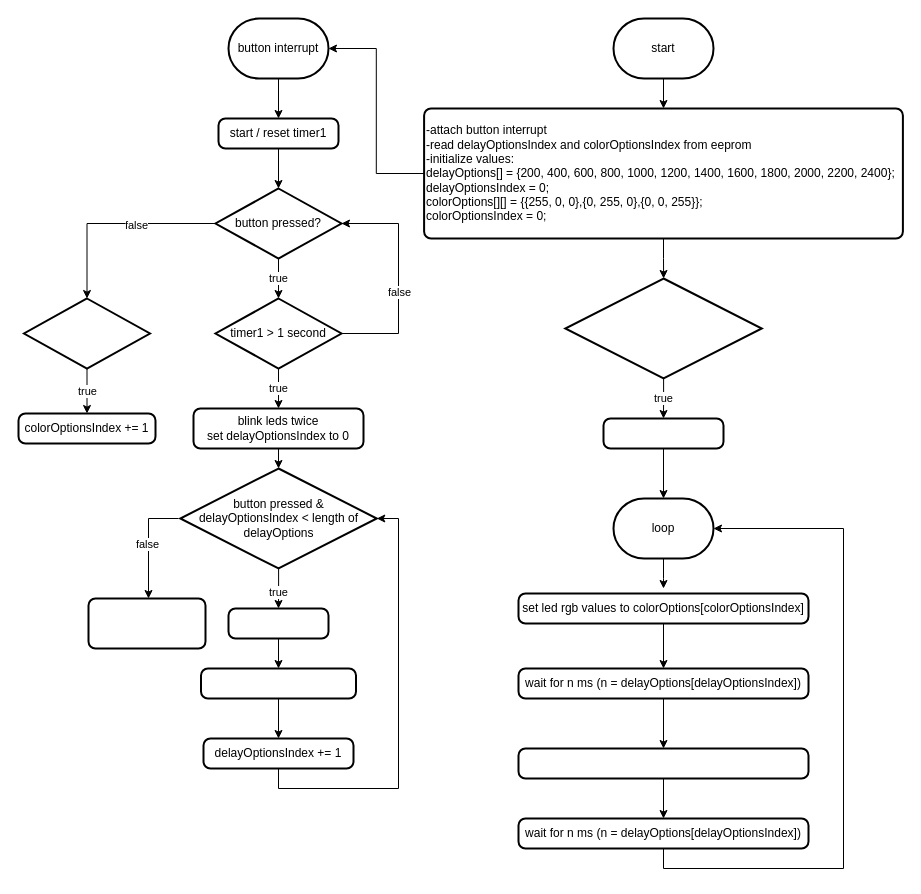
Image size: 921x894. Some labels were removed from this diagram. Here are the shapes that lost their labels. From the top down, the centre of each, then its label:
At (x=86, y=333): "timer1 < 1 second".
At (x=663, y=328): "index values make sense ?".
At (x=663, y=433): "load default values".
At (x=146, y=623): "save and set delayOptionsIndex".
At (x=278, y=623): "wait 1 second".
At (x=278, y=683): "blink led n times (n = delayOptionsIndex)".
At (x=663, y=763): "set led rgb values to 0 / off".
